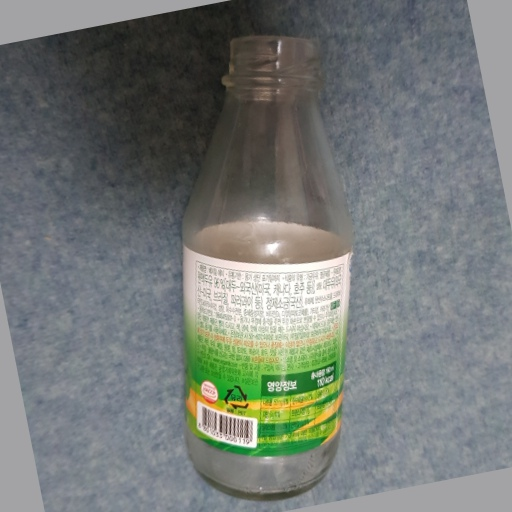Glass_4: (170, 33, 357, 500)
